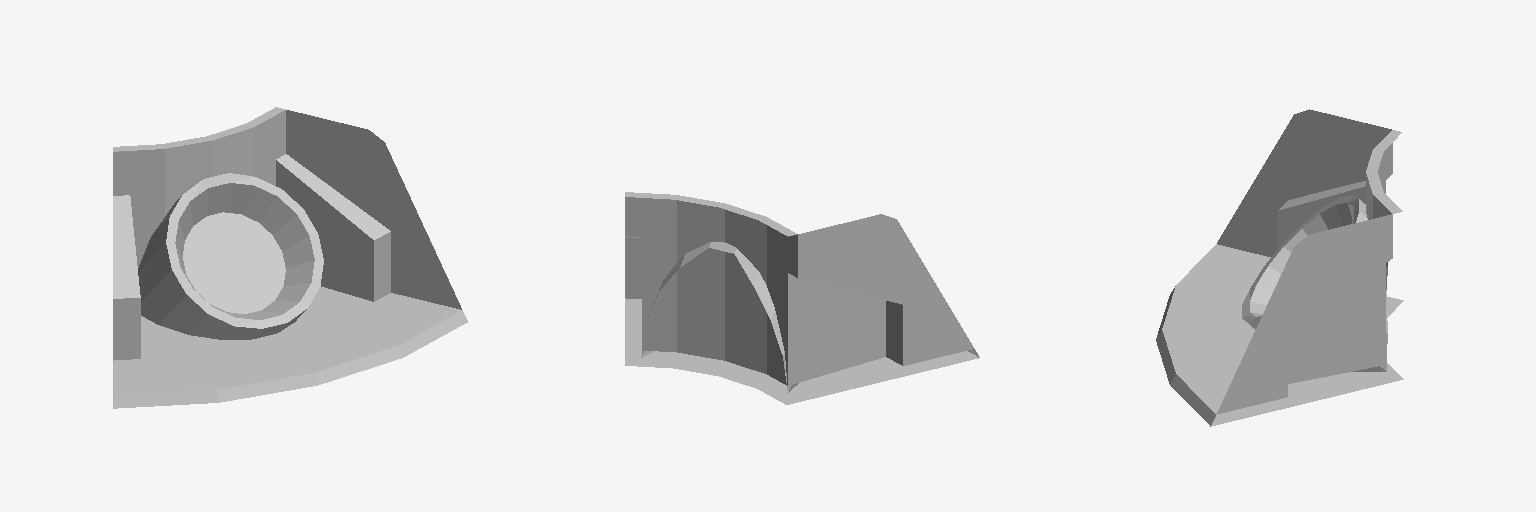
The model's file is parachute_AO.obj.
3 views of the same model, side by side, from view 1: azimuth 30°, elevation 25°; view 2: azimuth 150°, elevation 25°; view 3: azimuth 270°, elevation 25° (orthographic).
Visible parts, largest first — view 1: polySurface166; view 2: polySurface166; view 3: polySurface166.
Part boxes in pixels (x1,y1,x2,y2): polySurface166: (113,107,467,408); polySurface166: (625,192,979,404); polySurface166: (1156,109,1403,426).
Bounding box in the file's own units: 0.6228 × 0.2817 × 0.3772.